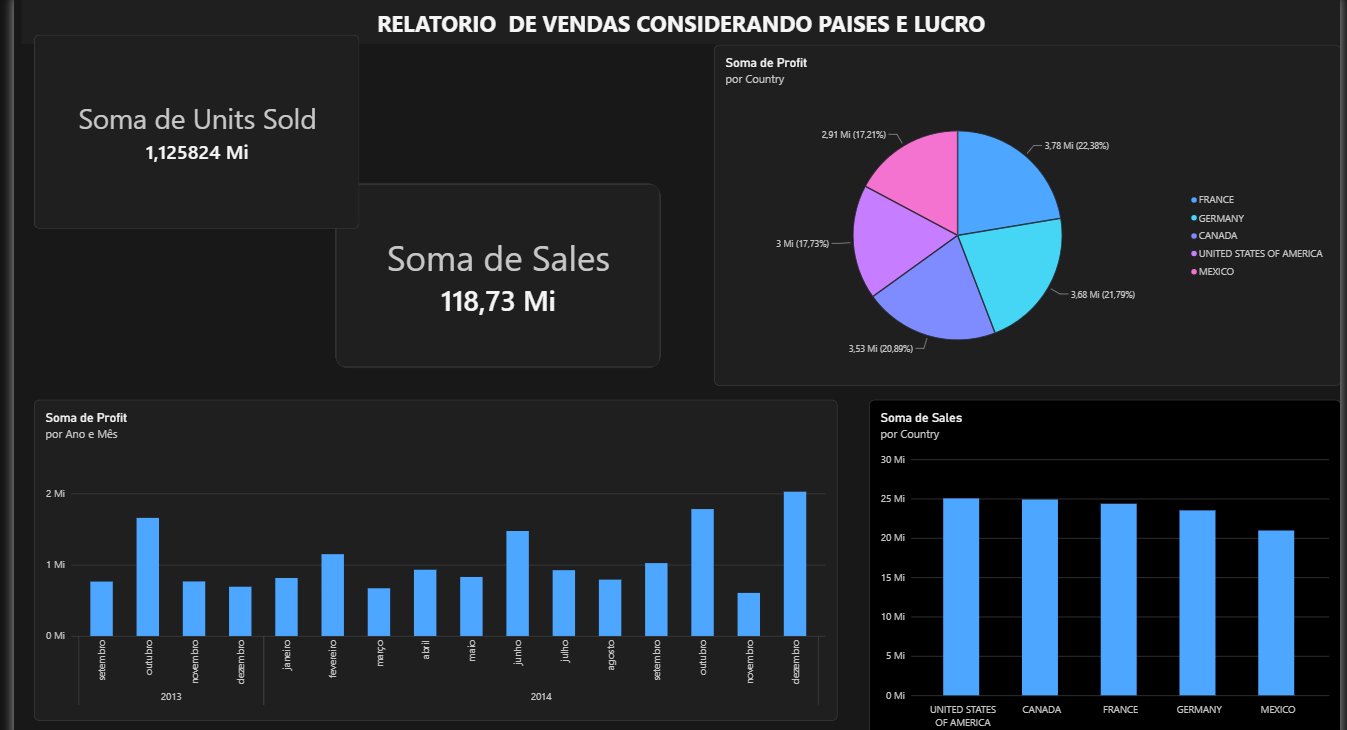

The page's visual inventory and layout, read from the dashboard file:
{"tool":"powerbi","page":{"name":"RELATORIO DE LUCROS","canvas":[1920,1080],"ordinal":1},"visuals":[{"type":"textbox","box":[10.3,0,1910.1,70],"z":0},{"type":"cardVisual","fields":{"Data":["Sum(financials. Sales)"]},"box":[465.2,271.7,471.4,267.6],"z":1},{"type":"cardVisual","fields":{"Data":["Sum(financials.Units Sold)"]},"box":[28.8,55.6,471.4,282],"z":2},{"type":"pieChart","fields":{"Category":["financials.Country"],"Y":["Sum(financials.Profit)"]},"box":[1012.7,70,907.7,494],"z":3},{"type":"clusteredColumnChart","fields":{"Category":["financials.Date.Variation.Hierarquia de datas.Ano","financials.Date.Variation.Hierarquia de datas.Mês"],"Y":["Sum(financials.Profit)"]},"box":[28.8,584.6,1163,465.2],"z":4},{"type":"clusteredColumnChart","fields":{"Category":["financials.Country"],"Y":["Sum(financials. Sales)"]},"box":[1237.1,584.6,683.4,496.1],"z":5}]}

Visuals, with their boxes on the page's 1920x1080 design canvas (x1, y1, x2, y2). These are canvas units, not pixel positions in the 1347x730 screenshot, which may show the page scaled, cropped or inside an application window:
textbox: (10,0,1920,70)
cardVisual - Sum(financials. Sales): (465,272,937,539)
cardVisual - Sum(financials.Units Sold): (29,56,500,338)
pieChart - financials.Country x Sum(financials.Profit): (1013,70,1920,564)
clusteredColumnChart - financials.Date.Variation.Hierarquia de datas.Ano x financials.Date.Variation.Hierarquia de datas.Mês: (29,585,1192,1050)
clusteredColumnChart - financials.Country x Sum(financials. Sales): (1237,585,1920,1081)
